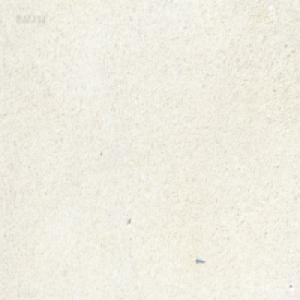Nail: (195, 256, 205, 263)
